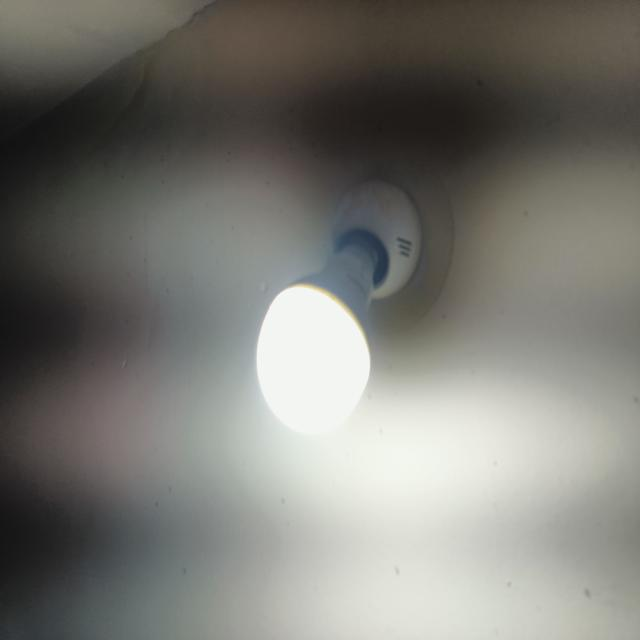bulb_on: (255, 280, 372, 438)
